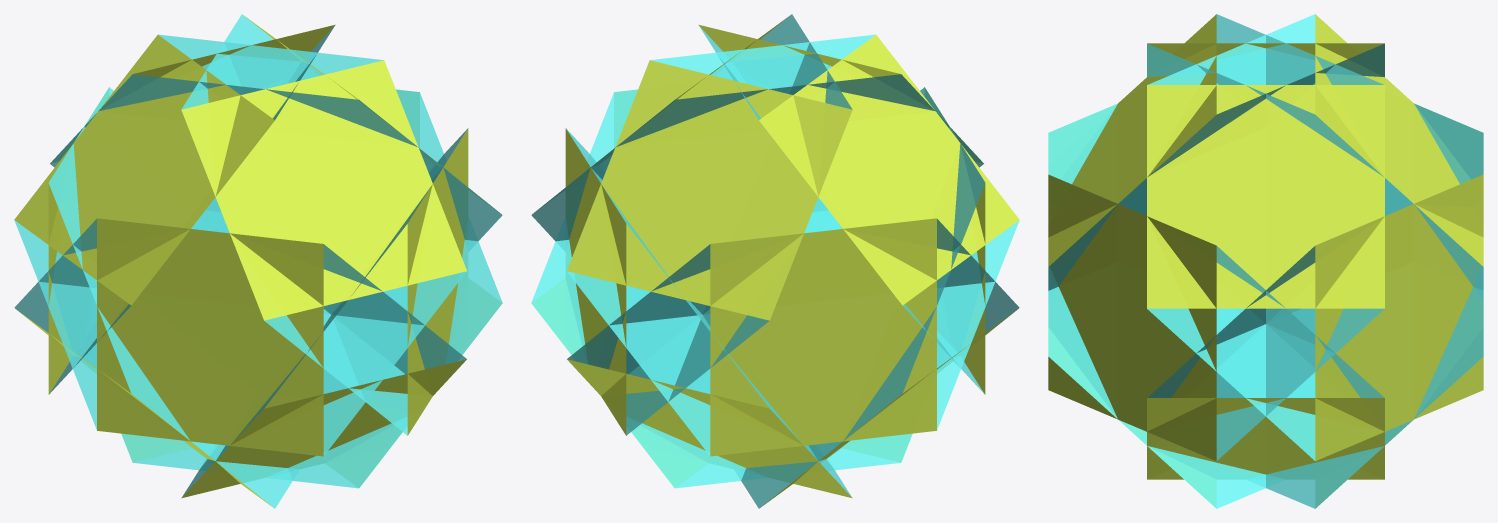
File: GreatTruncatedCuboctahedronA.obj
3 views of the same model, side by side, from view 1: azimuth 30°, elevation 25°; view 2: azimuth 150°, elevation 25°; view 3: azimuth 270°, elevation 25° (orthographic).
Size of the model in its own units: 1.83 by 1.83 by 1.83.
